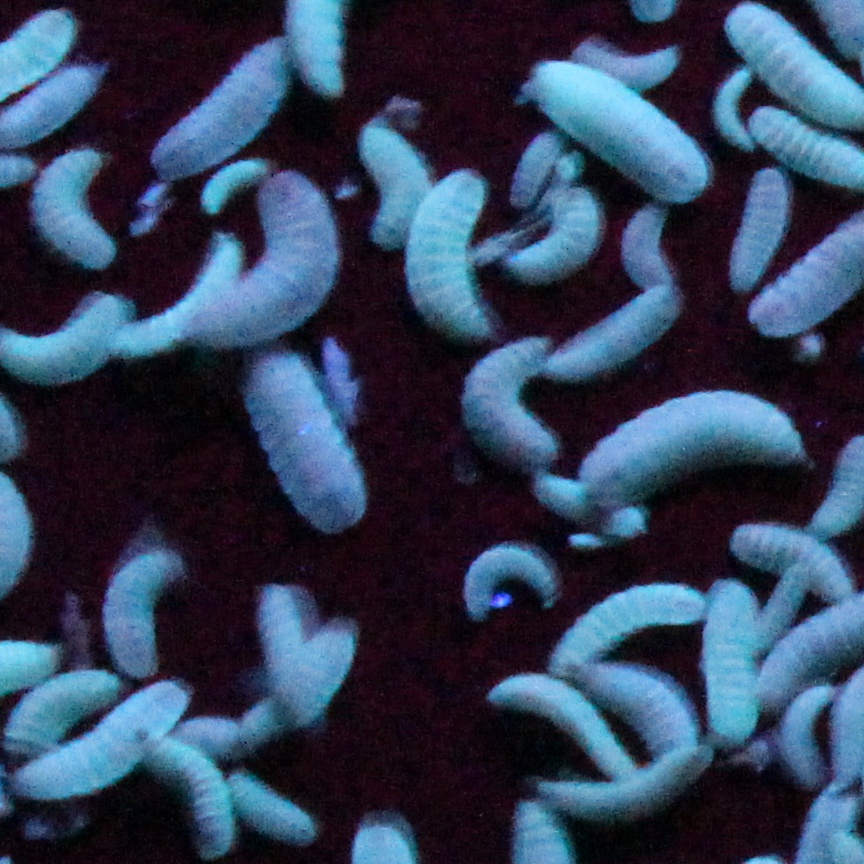larve: (188, 170, 343, 351), (581, 389, 802, 509), (237, 346, 376, 534), (530, 59, 710, 203), (8, 679, 200, 804), (150, 32, 295, 180), (485, 671, 638, 782), (116, 230, 244, 359), (403, 169, 498, 341), (536, 737, 714, 828), (460, 330, 560, 476), (550, 583, 706, 674), (543, 283, 681, 380), (250, 580, 332, 742), (577, 663, 696, 760), (143, 740, 237, 860), (272, 613, 360, 737), (101, 548, 181, 683), (30, 148, 116, 271), (731, 522, 858, 602), (358, 121, 436, 249), (508, 187, 603, 289), (465, 538, 558, 624), (530, 471, 645, 537), (732, 168, 791, 294), (568, 27, 680, 93), (740, 559, 807, 661), (223, 772, 316, 840), (622, 196, 675, 294), (785, 686, 833, 789), (513, 119, 568, 206), (166, 713, 250, 761), (712, 66, 758, 151)
